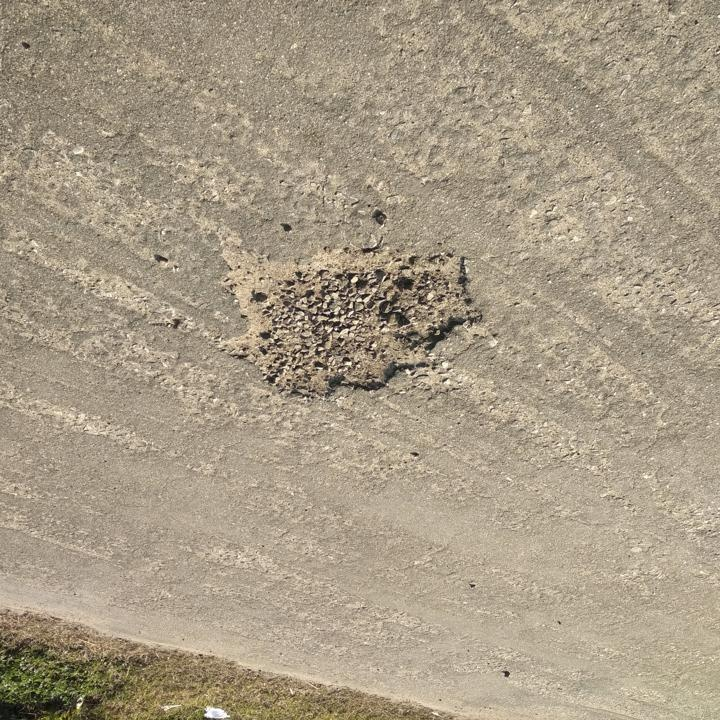pothole: (213, 246, 487, 404)
